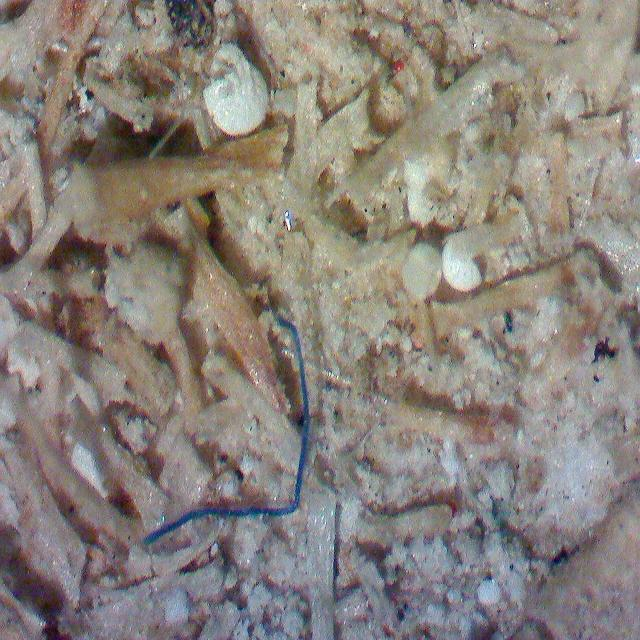microplastic: (142, 317, 312, 545)
